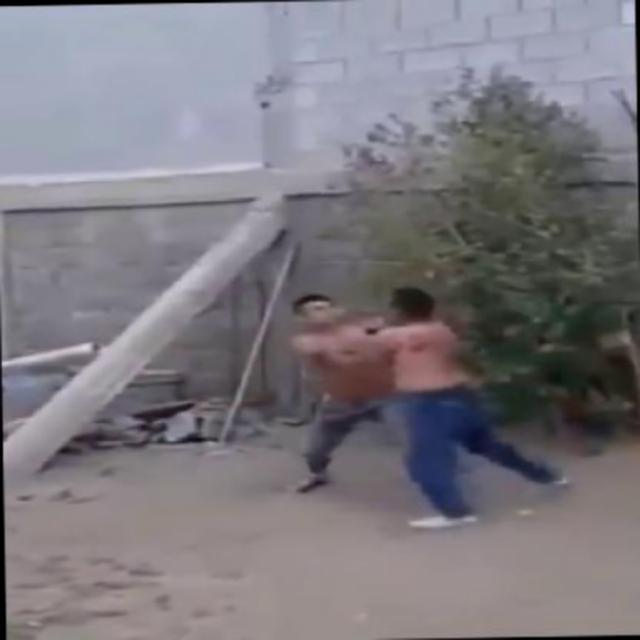fight: (287, 281, 504, 524)
